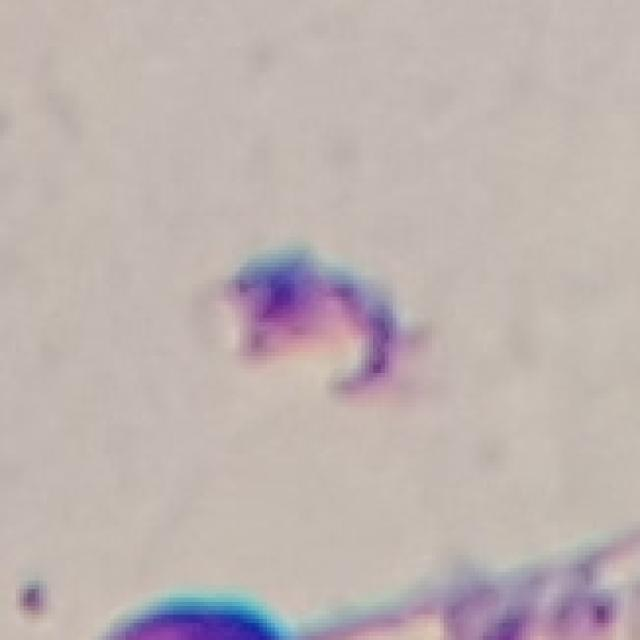non-sperm: (226, 240, 396, 396)
